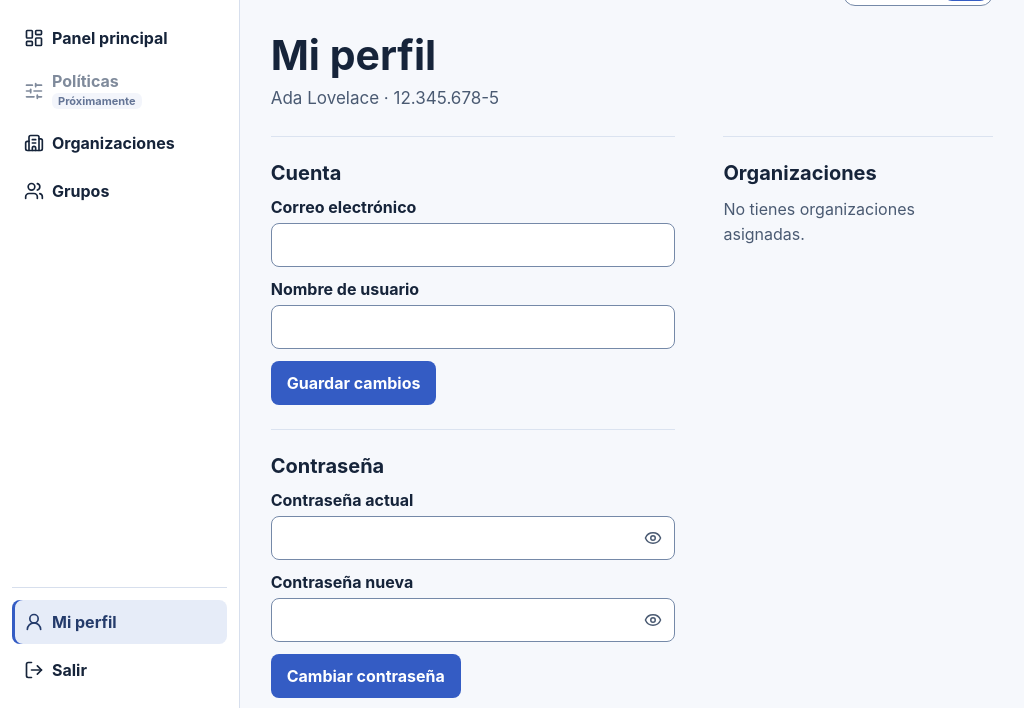
Scenario: profile password section › AC-03 reports a network failure
The image size is (1024, 708).
Type "old-password-1" into the password field labelled "Contraseña actual". click: (473, 538)
box: x1=271 y1=516 x2=675 y2=560
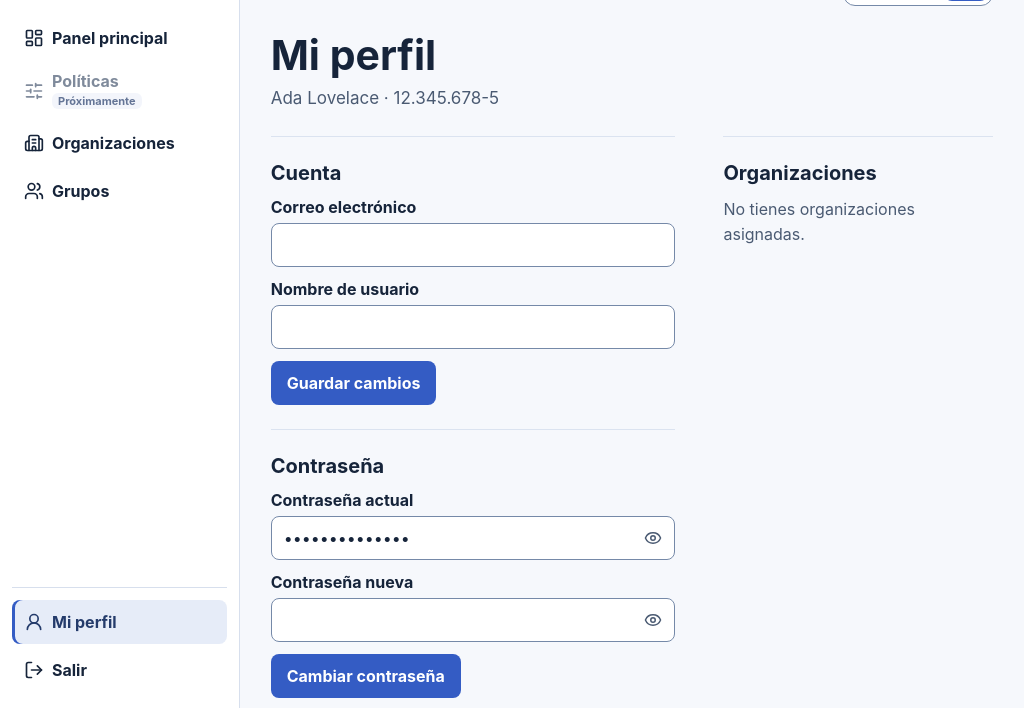
Type "a-new-password-123" into the password field labelled "Contraseña nueva". click: (473, 620)
box: x1=271 y1=598 x2=675 y2=642
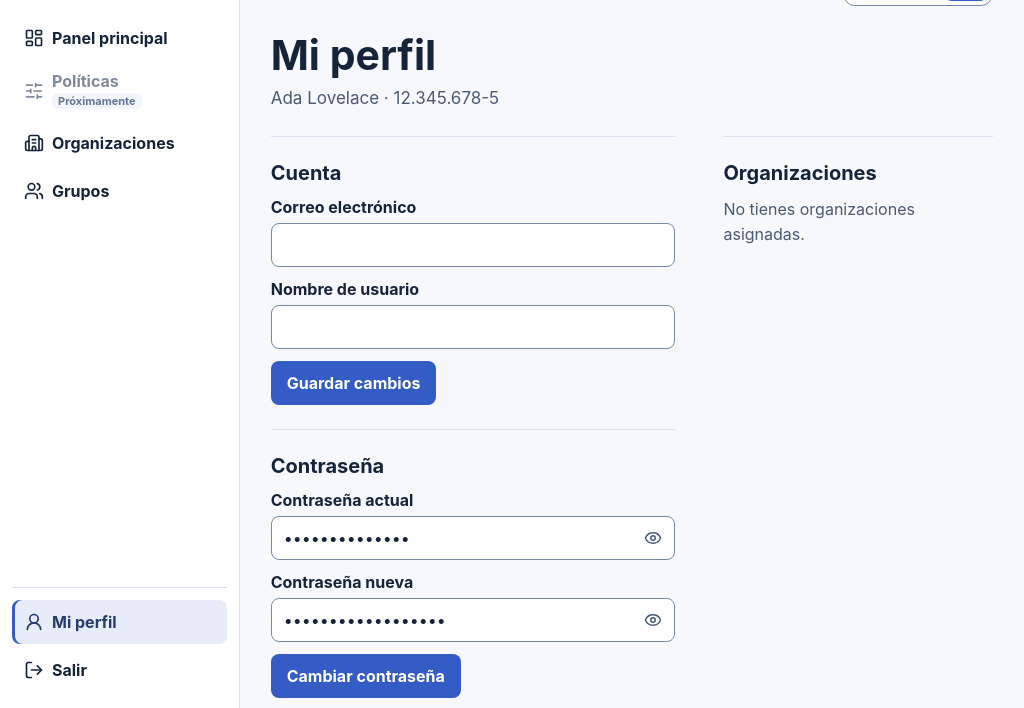
Click the button "Cambiar contraseña". click: (366, 676)
box: x1=271 y1=654 x2=461 y2=698
(page scrolled)
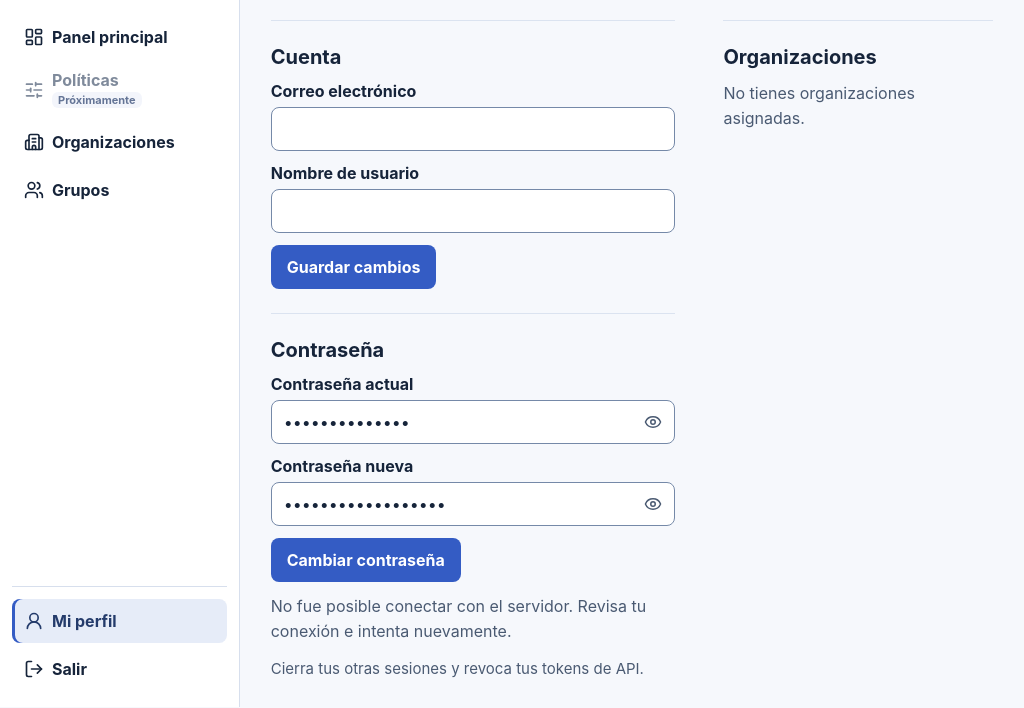
Result: the message shows "No fue posible conectar" at x1=271 y1=596 x2=646 y2=642
